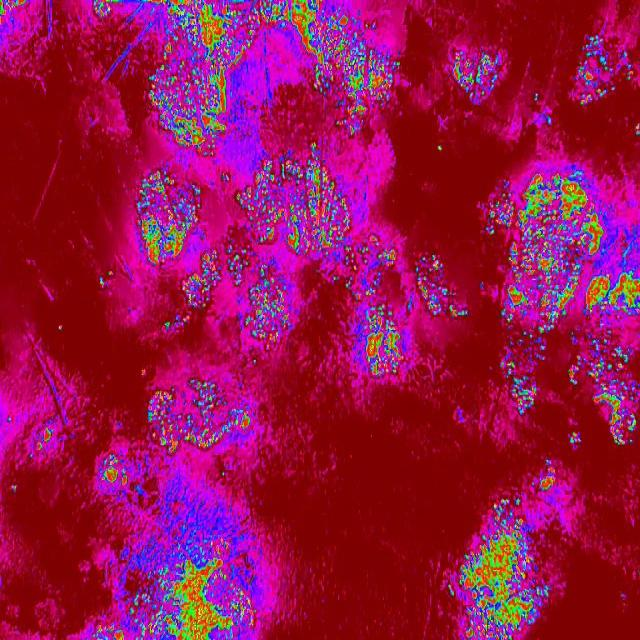fire: (484, 167, 614, 319), (124, 511, 258, 640), (144, 0, 240, 155), (448, 495, 548, 640), (246, 142, 356, 268), (310, 0, 399, 135), (566, 317, 640, 448), (148, 377, 254, 457), (136, 168, 202, 268), (499, 317, 554, 418), (568, 35, 634, 105), (244, 268, 294, 346), (417, 252, 469, 323), (239, 0, 308, 51), (360, 303, 402, 383), (450, 50, 504, 100), (612, 220, 640, 316), (332, 270, 381, 302), (357, 232, 396, 268), (184, 268, 218, 308), (101, 452, 133, 488), (83, 616, 123, 640), (225, 240, 245, 284), (533, 462, 556, 493), (92, 0, 120, 20), (0, 0, 30, 14), (38, 428, 54, 454), (165, 317, 187, 332), (232, 190, 246, 210), (202, 248, 216, 268), (542, 112, 554, 130), (218, 168, 231, 184), (8, 483, 20, 496), (532, 92, 542, 106), (634, 118, 640, 140), (56, 321, 66, 334), (435, 142, 443, 154), (98, 276, 105, 286), (107, 271, 115, 279), (221, 470, 227, 480), (6, 416, 12, 425), (28, 452, 33, 461), (252, 358, 258, 364)
